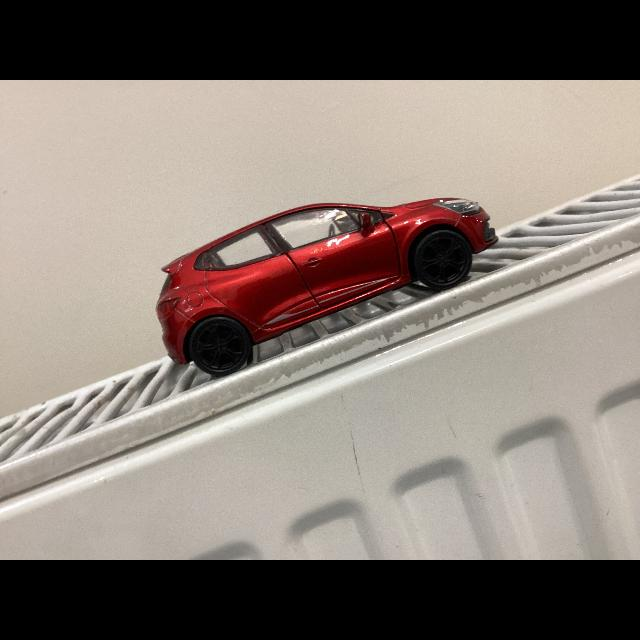Dogru_Jant: (418, 232, 467, 284), (194, 322, 243, 370)
